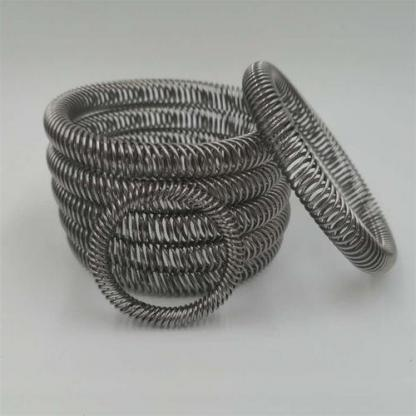FOD: (243, 55, 402, 276), (38, 74, 274, 181), (85, 180, 247, 328)
